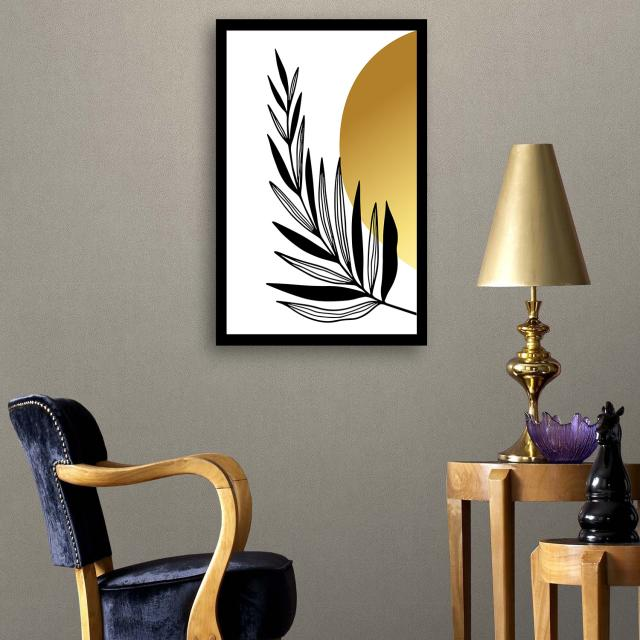painting: (217, 19, 427, 344)
